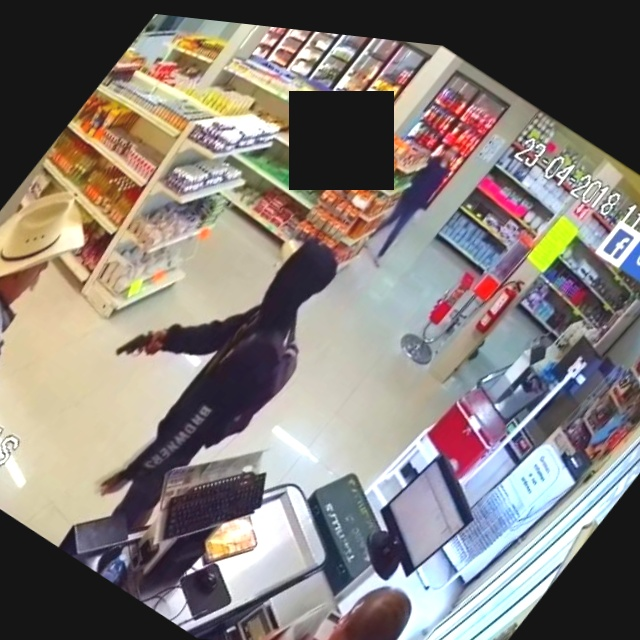gun: (99, 296, 179, 387)
